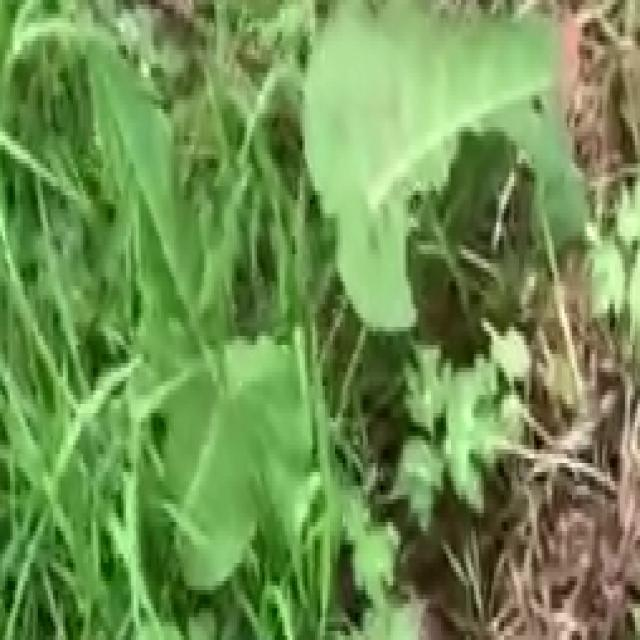organic waste: (90, 0, 600, 640)
